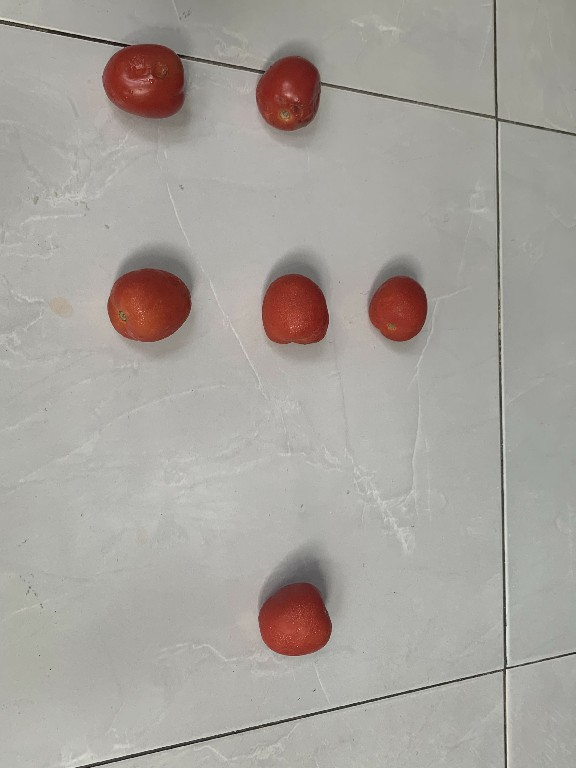NG: (99, 37, 193, 122), (247, 53, 332, 144)
OK: (101, 262, 198, 347), (250, 579, 342, 660), (254, 267, 335, 355), (364, 269, 425, 346)
